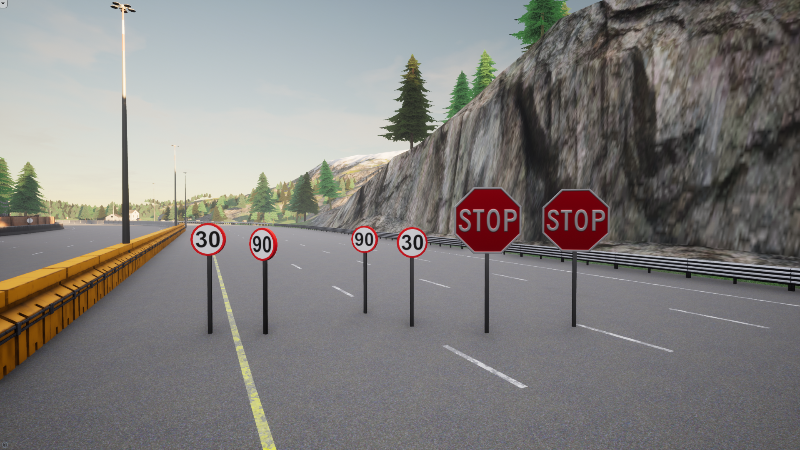fast: (249, 229, 277, 261), (350, 225, 378, 253)
slow: (190, 223, 226, 256), (395, 227, 427, 257)
stop: (454, 186, 523, 254), (541, 188, 609, 252)
